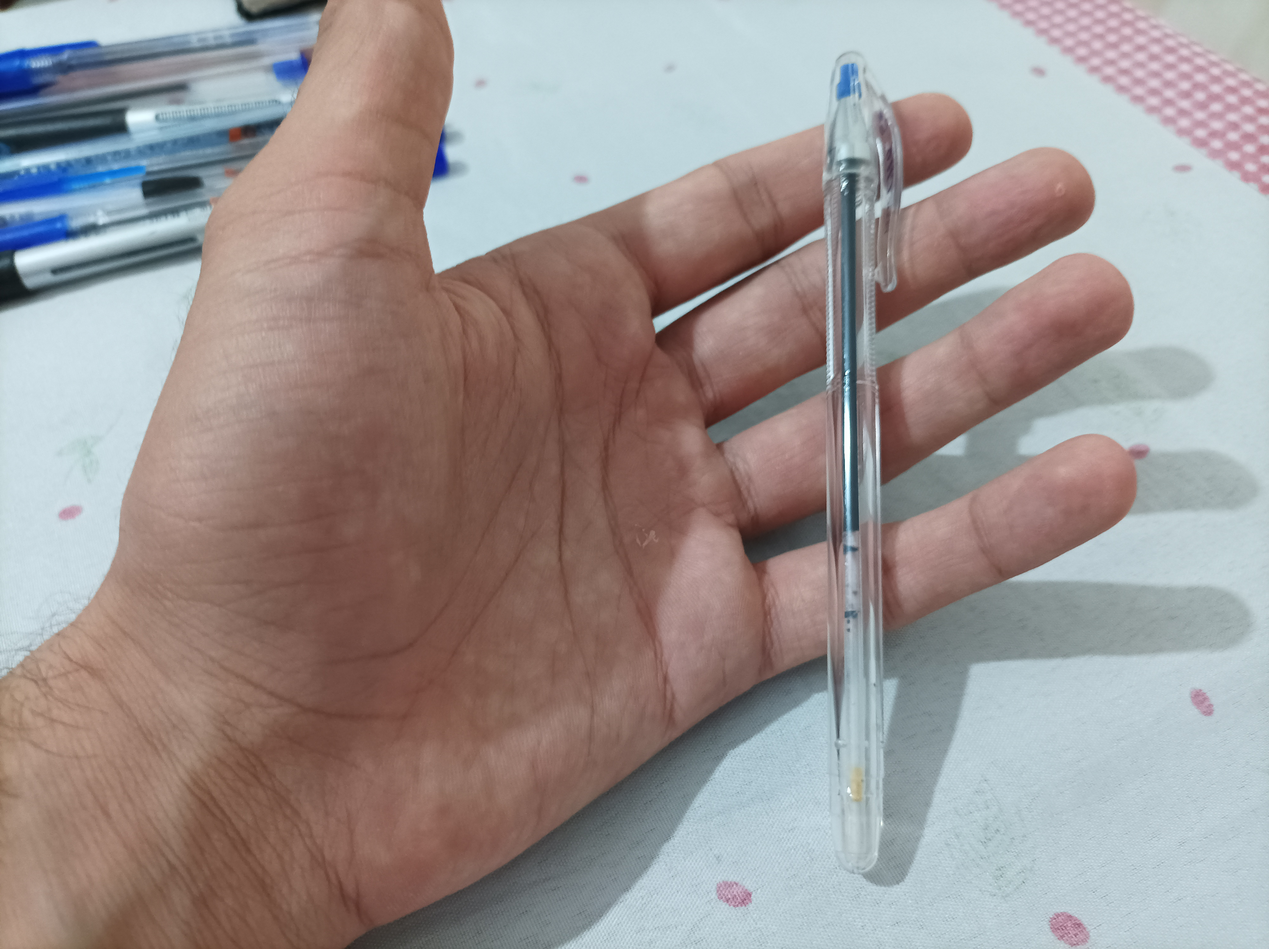plastic: (822, 67, 908, 879)
